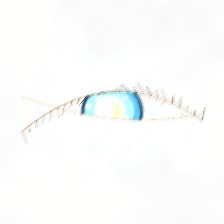corneal_ulcer: (84, 90, 135, 131)
